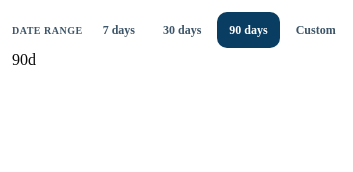
Test: chart range › updates the shared range from the control
This screenshot has width=353, height=172.
Check: the text with test id "range" reads "90d", box [12,51,36,68]
What coordinates should you click on to do the following:
click the button "7 days"
I would click on:
 (119, 30)
Its box is [91,12,147,48].
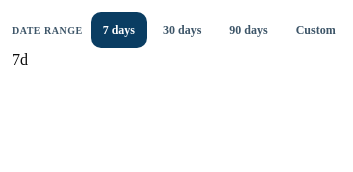
Check: the text with test id "range" reads "7d", box [12,51,28,68]
